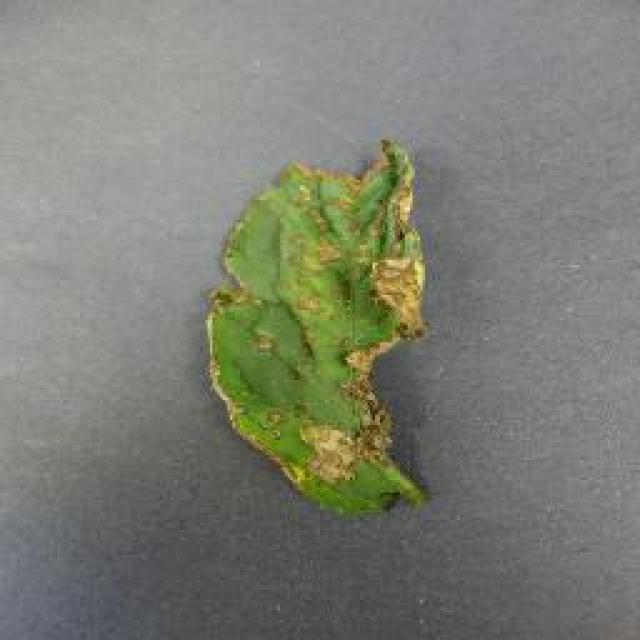Tomato bacterial spot leaf: (202, 132, 438, 530)
